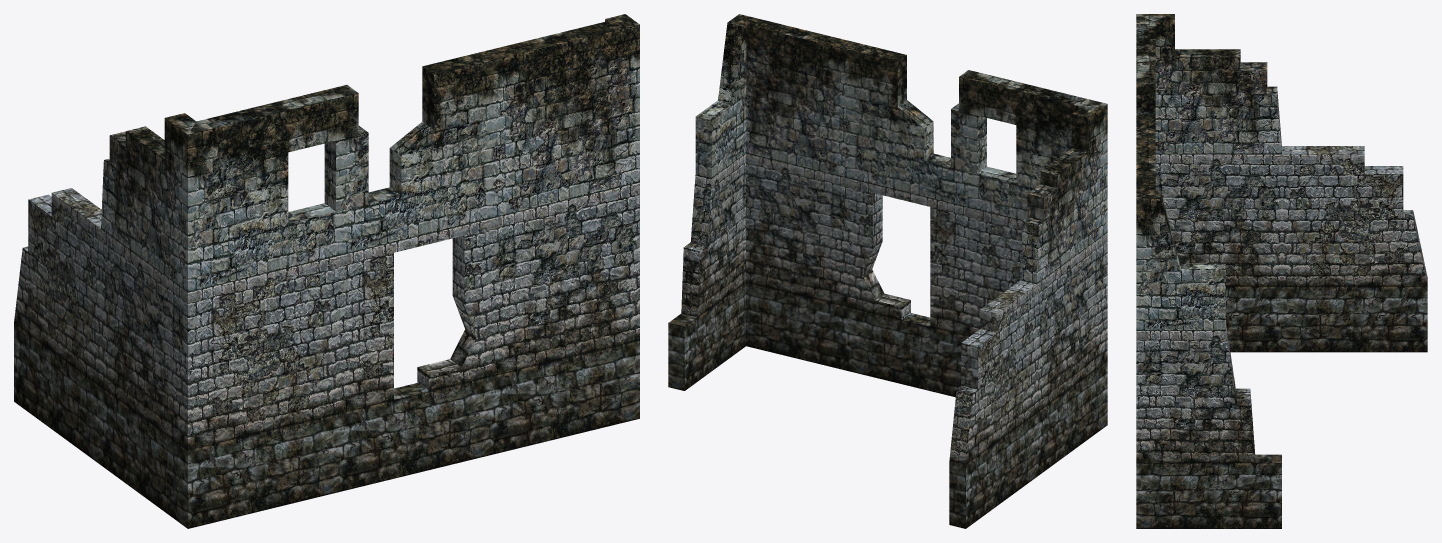
The picture shows the model from 3 angles, left to right: view 1: azimuth 30°, elevation 25°; view 2: azimuth 150°, elevation 25°; view 3: azimuth 270°, elevation 25°; orthographic projection. The views are drawn at different scales.
Parts seen in each view (by area): view 1: hr_h4-col; view 2: hr_h4-col; view 3: hr_h4-col.
Boxes of the visible parts, bbox=[...] form: hr_h4-col: bbox=[14, 14, 639, 528]; hr_h4-col: bbox=[668, 14, 1107, 528]; hr_h4-col: bbox=[1136, 14, 1427, 528].
Size of the model in its own units: 9 by 7.5 by 6.
5 materials, 5 textured.
